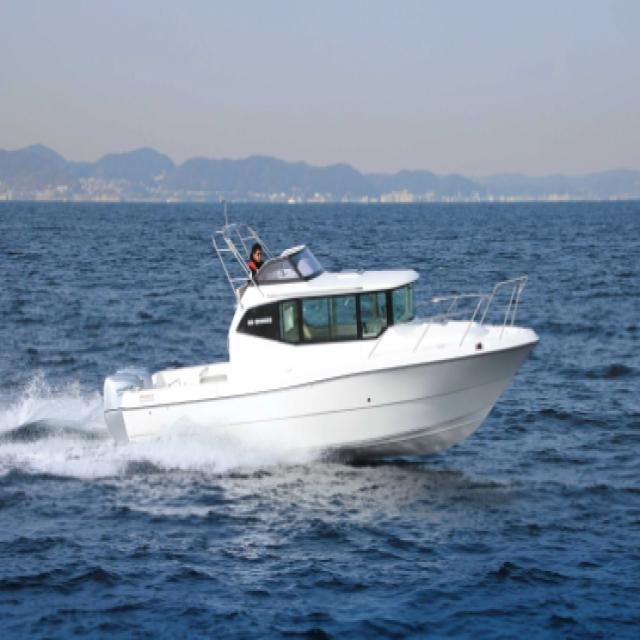houseboat: (100, 203, 545, 475)
